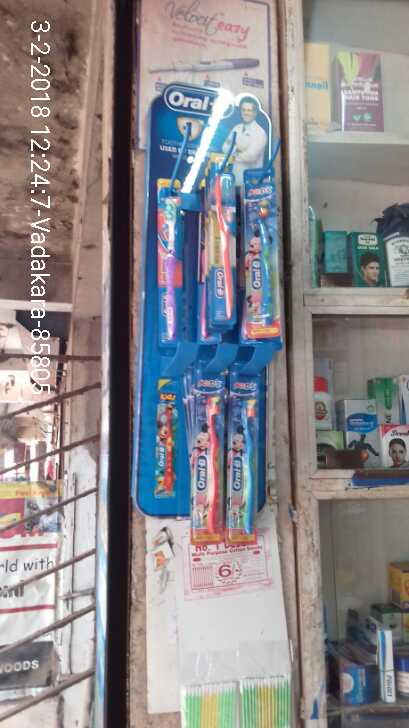oralb: (242, 170, 286, 337), (189, 358, 228, 540), (208, 153, 238, 328), (153, 178, 184, 345), (228, 370, 258, 540)
